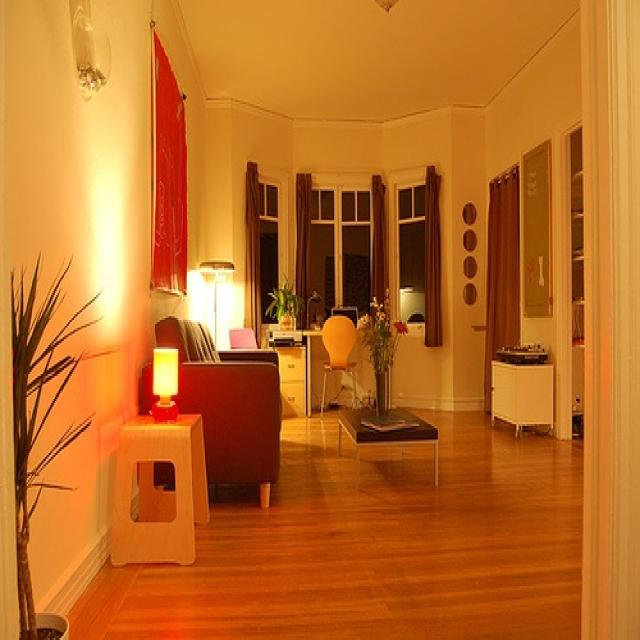chair: (318, 316, 360, 415)
pottedplant: (13, 256, 97, 638), (266, 278, 306, 336)
sofa: (138, 314, 282, 513)
